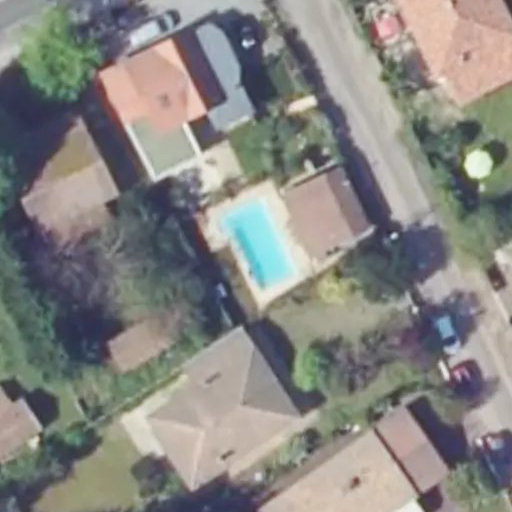pool: (218, 198, 300, 290)
